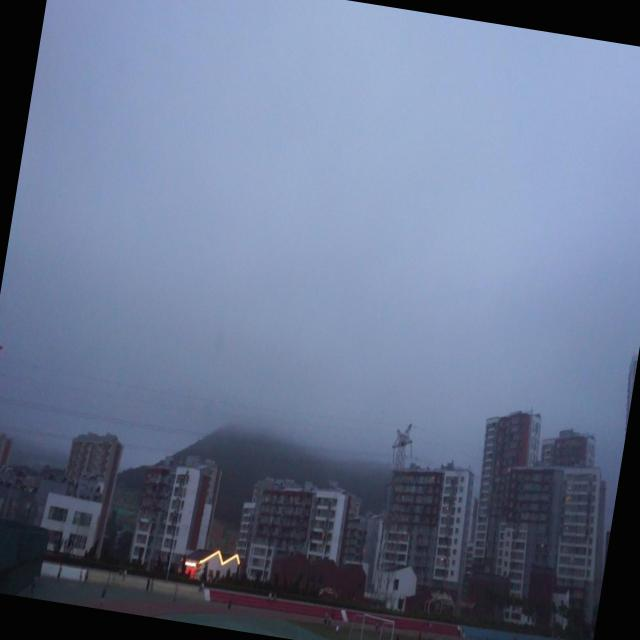drone: (0, 336, 5, 358)
